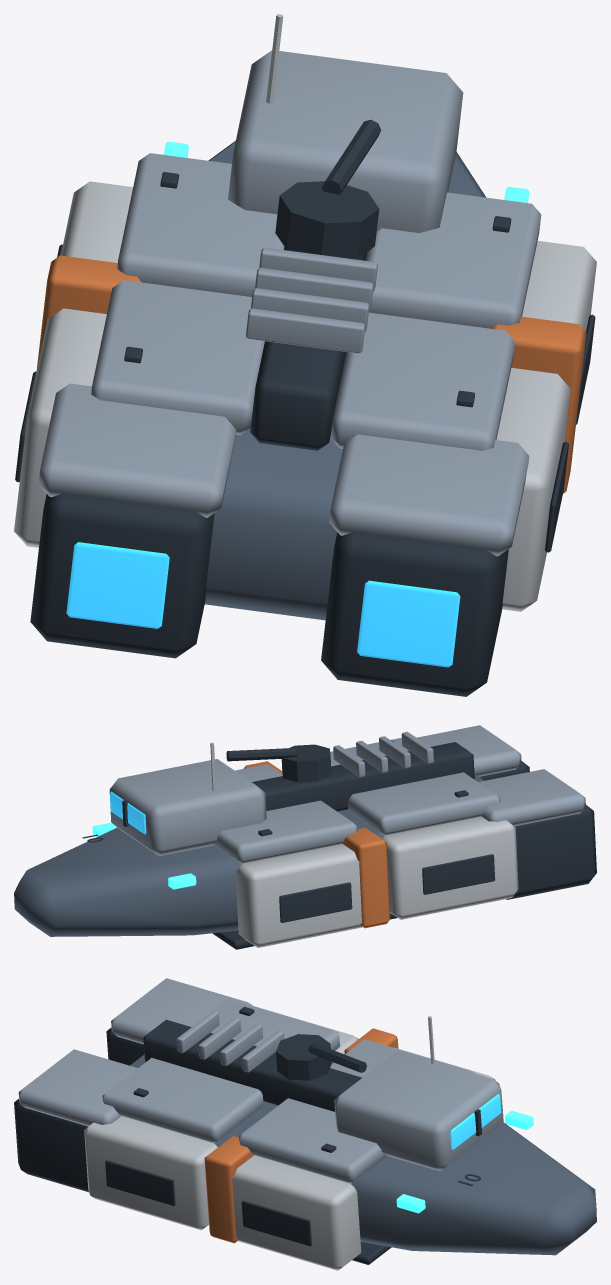
The model's file is human_combat_frigate.glb.
The picture shows the model from 3 angles, top to bottom: view 1: azimuth 30°, elevation 25°; view 2: azimuth 150°, elevation 25°; view 3: azimuth 270°, elevation 25°; orthographic projection. The views are drawn at different scales.
Visible parts, largest first — view 1: Frigate | bridge, Frigate | keel, Frigate | dorsal armor.002, Frigate | dorsal armor, Frigate | engine armor cap.001, Frigate | engine armor cap, Frigate | engine housing.001, Frigate | engine housing, Frigate | dorsal armor.003, Frigate | dorsal armor.001, Frigate | shoulder armor.002, Frigate | compact spine (+14 smaller); view 2: Frigate | keel, Frigate | bridge, Frigate | shoulder armor, Frigate | shoulder armor.001, Frigate | dorsal armor, Frigate | engine housing, Frigate | compact spine, Frigate | dorsal armor.001, Frigate | engine armor cap, Frigate | orange identification band, Frigate | engine armor cap.001, Frigate | flank recess.001 (+13 smaller); view 3: Frigate | keel, Frigate | bridge, Frigate | shoulder armor.003, Frigate | shoulder armor.002, Frigate | dorsal armor.002, Frigate | dorsal armor.003, Frigate | compact spine, Frigate | engine armor cap.001, Frigate | engine housing.001, Frigate | engine armor cap, Frigate | orange identification band.001, Frigate | dorsal armor (+15 smaller).
Boxes of the visible parts, box(x1,y1,x2,y2) form: Frigate | bridge: box(228, 50, 463, 232); Frigate | keel: box(205, 141, 486, 620); Frigate | dorsal armor.002: box(330, 312, 514, 450); Frigate | dorsal armor: box(91, 280, 264, 434); Frigate | engine armor cap.001: box(329, 434, 529, 556); Frigate | engine armor cap: box(38, 383, 235, 517); Frigate | engine housing.001: box(321, 531, 508, 696); Frigate | engine housing: box(30, 493, 214, 658); Frigate | dorsal armor.003: box(365, 192, 541, 328); Frigate | dorsal armor.001: box(117, 153, 284, 296); Frigate | shoulder armor.002: box(496, 368, 570, 611); Frigate | compact spine: box(250, 247, 366, 450); Frigate | keel: box(14, 774, 484, 936); Frigate | bridge: box(109, 759, 266, 856); Frigate | shoulder armor: box(382, 816, 518, 919); Frigate | shoulder armor.001: box(235, 844, 362, 947); Frigate | dorsal armor: box(348, 772, 500, 835); Frigate | engine housing: box(506, 805, 596, 899); Frigate | compact spine: box(252, 742, 474, 811); Frigate | dorsal armor.001: box(214, 800, 357, 863); Frigate | engine armor cap: box(478, 769, 585, 826); Frigate | orange identification band: box(343, 827, 390, 928); Frigate | engine armor cap.001: box(417, 725, 521, 776); Frigate | flank recess.001: box(279, 882, 352, 922); Frigate | keel: box(130, 1054, 596, 1255); Frigate | bridge: box(334, 1051, 503, 1171); Frigate | shoulder armor.003: box(232, 1155, 361, 1270); Frigate | shoulder armor.002: box(84, 1116, 217, 1230); Frigate | dorsal armor.002: box(102, 1058, 263, 1143); Frigate | dorsal armor.003: box(239, 1098, 387, 1183); Frigate | compact spine: box(143, 1019, 361, 1111); Frigate | engine armor cap.001: box(18, 1049, 137, 1126); Frigate | engine housing.001: box(14, 1099, 88, 1192); Frigate | engine armor cap: box(111, 978, 252, 1044); Frigate | orange identification band.001: box(204, 1136, 253, 1243); Frigate | dorsal armor: box(192, 999, 339, 1050).
Bounding box in the file's own units: 2.08 × 0.9903 × 2.52.
